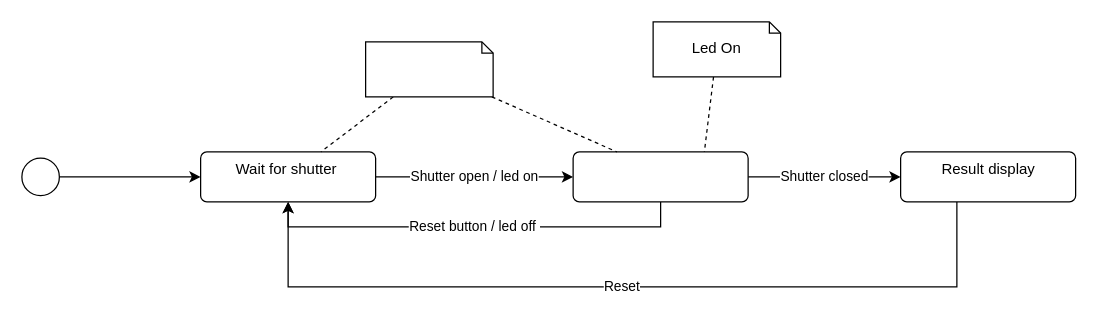
The diagram is 1098 pixels wide and 319 high, and some of its shapes have lost their labels. The shapes that lost their labels are listed below. From the top down, each one's centre as x and y in pixels, then its label:
[428,69]: Light On
[660,176]: Shutter open
